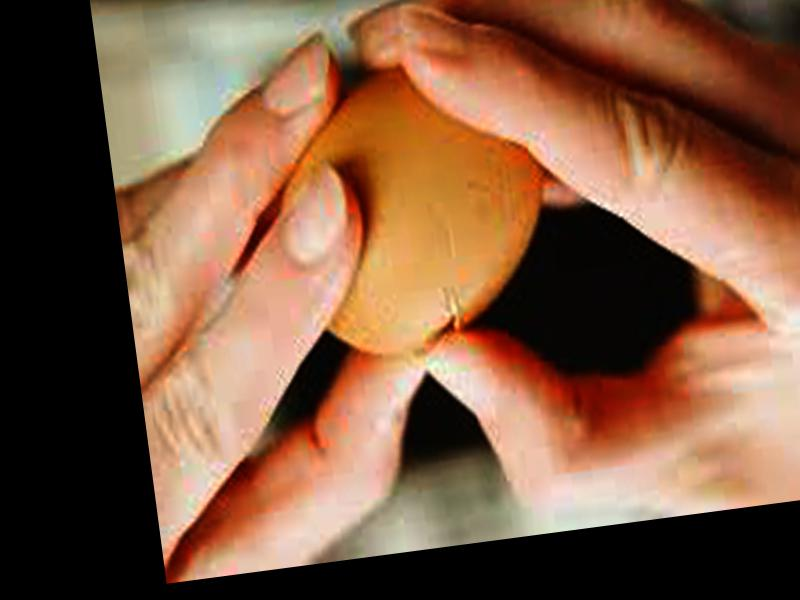Eggs: (261, 46, 562, 371)
